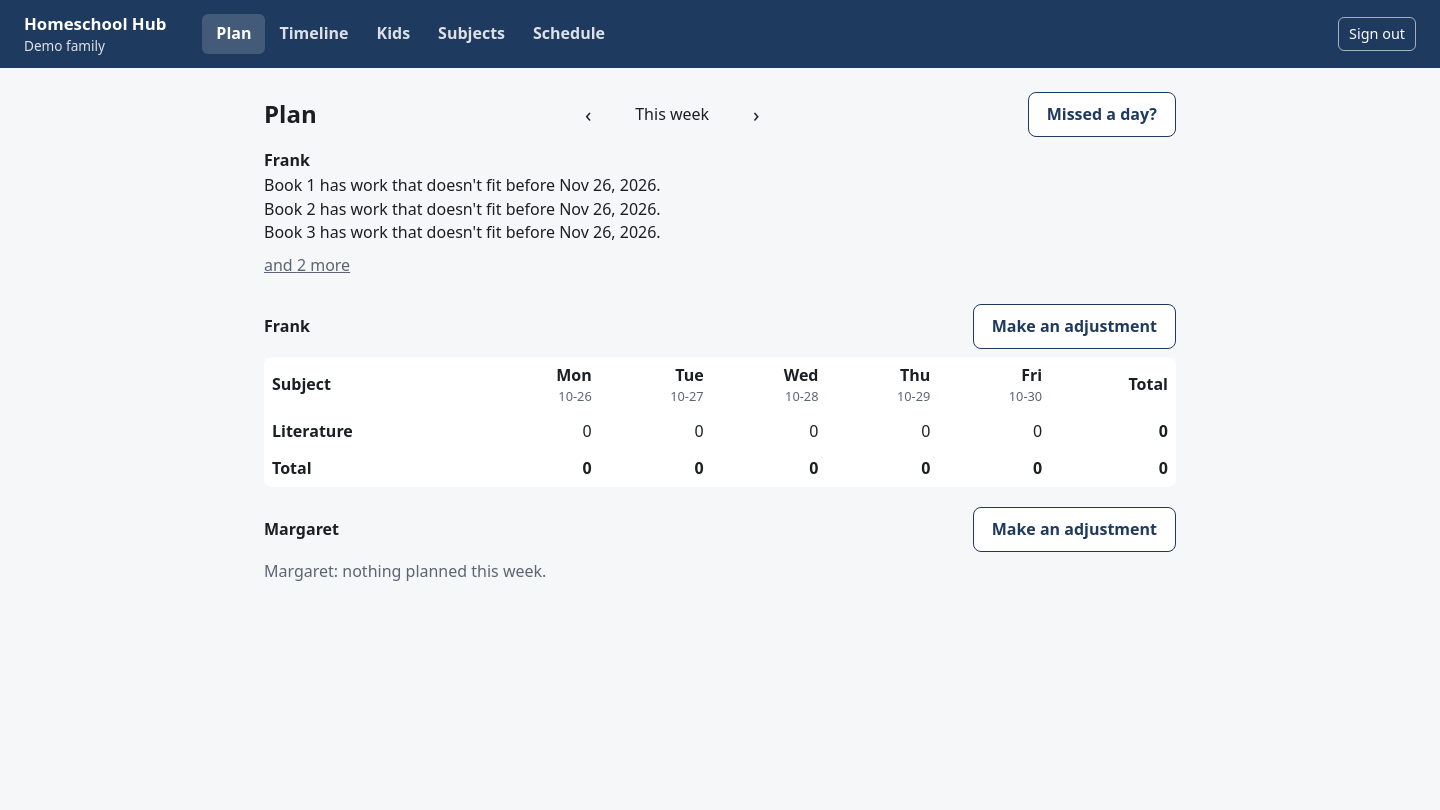
Weekly briefing on This Week (S4-09) › more than 3 lines collapse to 'and N more', which expands
Click the button "and 2 more" at (307,266), box [264,244,350,288]
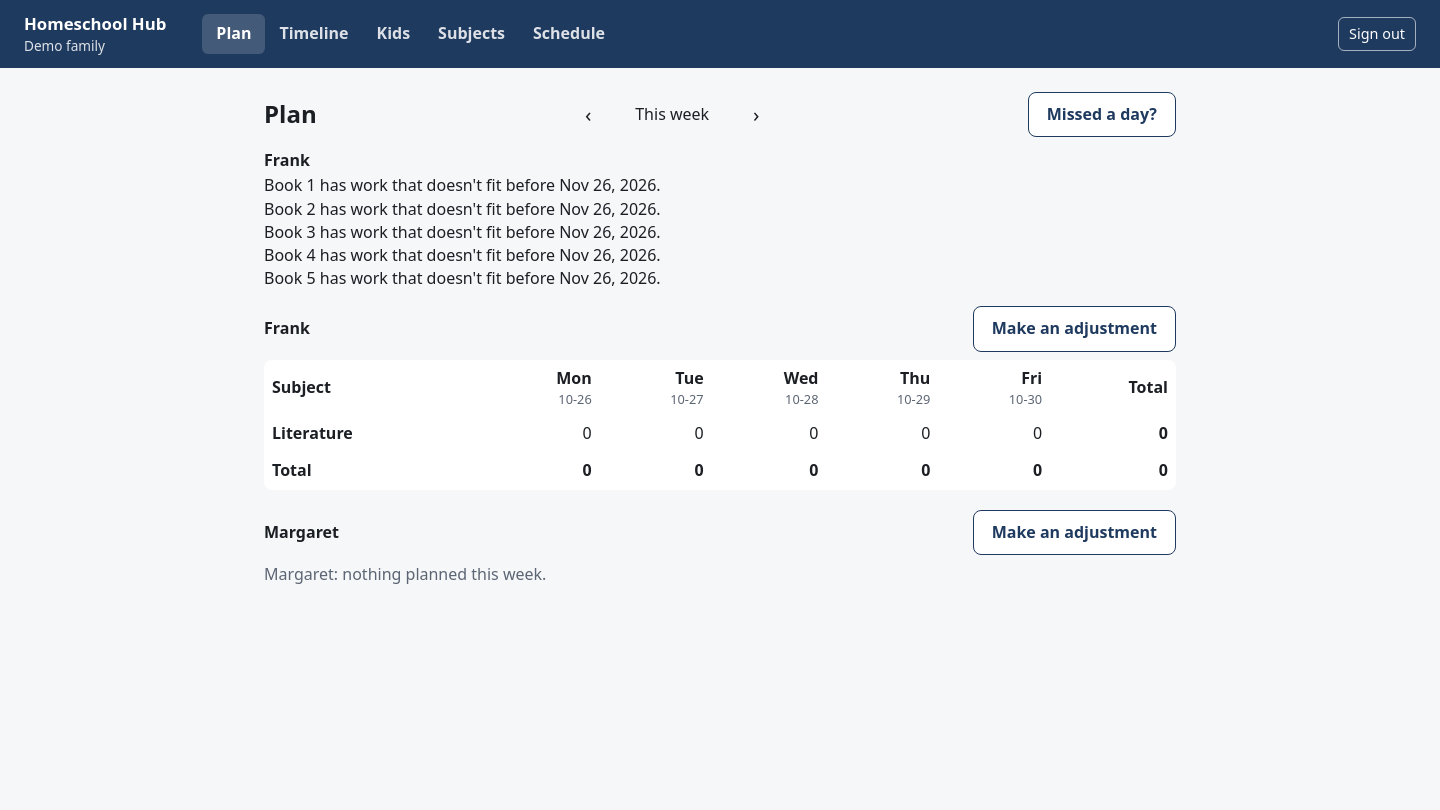
Expected: the button "more" is gone
